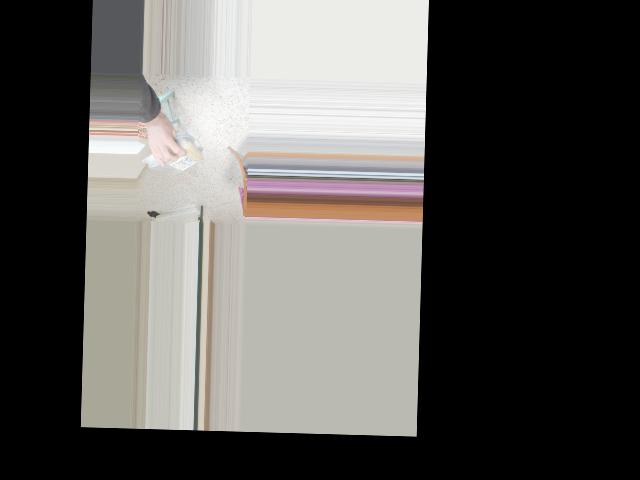cheese: (145, 142, 209, 172)
